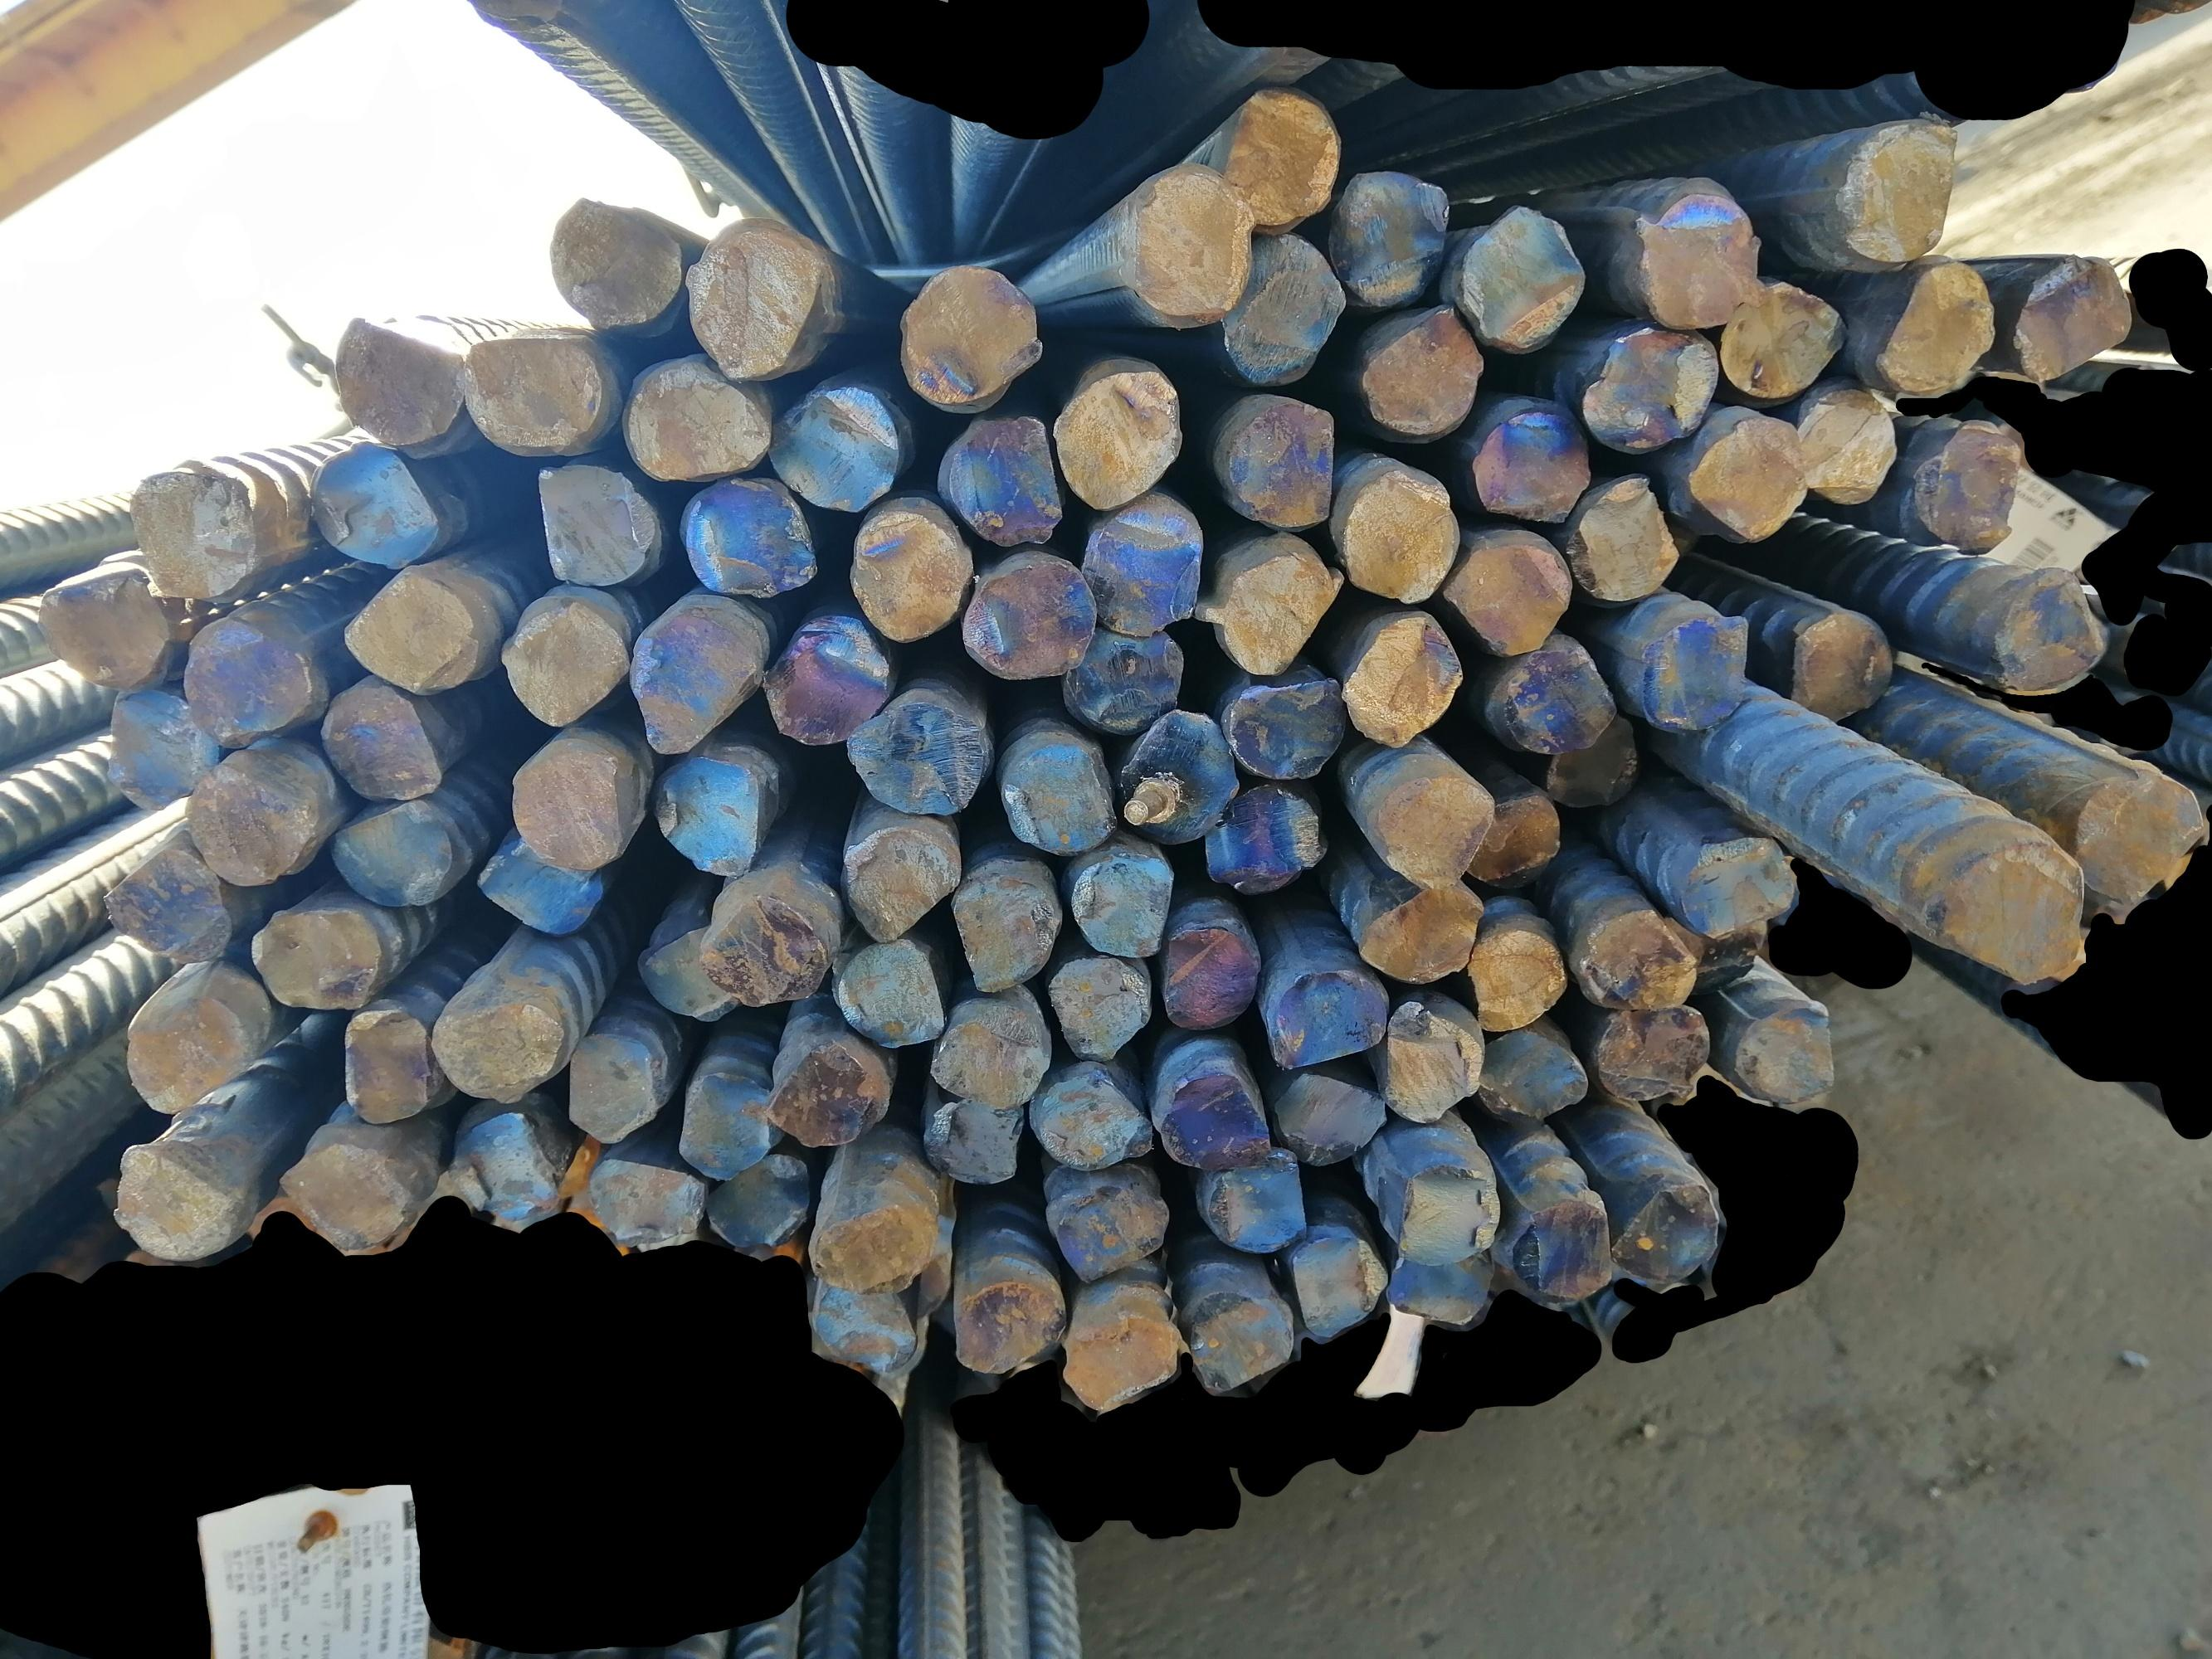bar: (676, 213, 830, 385), (1933, 824, 2088, 983), (631, 586, 769, 758), (899, 261, 1049, 408), (845, 674, 997, 819), (1119, 159, 1255, 317), (1051, 356, 1184, 512), (1196, 538, 1344, 674), (615, 347, 765, 481), (1217, 234, 1349, 385), (2073, 760, 2205, 910), (28, 558, 169, 697), (1628, 185, 1764, 329), (1457, 200, 1586, 350), (1576, 321, 1722, 451), (1835, 118, 1963, 268), (495, 584, 626, 728), (512, 735, 643, 880), (336, 570, 483, 699), (188, 749, 324, 887), (307, 439, 444, 575), (120, 985, 254, 1122), (333, 317, 467, 455), (957, 552, 1098, 683), (1081, 495, 1210, 638), (275, 1126, 415, 1256), (760, 605, 891, 744), (460, 335, 603, 462), (676, 471, 819, 598), (108, 1136, 241, 1272), (549, 188, 680, 326), (847, 500, 974, 641), (767, 382, 899, 516), (933, 410, 1063, 545), (1872, 254, 1994, 399), (180, 613, 314, 744), (422, 983, 563, 1107), (1227, 82, 1346, 228), (1682, 408, 1809, 544), (2006, 251, 2134, 387), (129, 467, 254, 605), (1110, 706, 1234, 845), (1330, 166, 1450, 308), (1358, 303, 1489, 434), (103, 685, 232, 816), (525, 458, 655, 587), (1442, 530, 1574, 657), (1720, 268, 1844, 403), (835, 817, 967, 941), (242, 897, 387, 1011), (1989, 563, 2111, 697), (322, 791, 460, 910), (1340, 605, 1459, 742), (1342, 465, 1459, 603), (1562, 472, 1682, 605), (695, 887, 824, 1009), (811, 1175, 945, 1291), (945, 864, 1065, 993), (105, 849, 235, 967), (312, 683, 443, 800), (1218, 396, 1335, 526), (1635, 610, 1757, 734), (443, 1103, 563, 1229), (762, 1033, 889, 1150), (1203, 784, 1332, 899), (1368, 774, 1492, 892), (1471, 403, 1590, 526), (647, 749, 760, 878), (1910, 416, 2019, 551), (1781, 605, 1902, 725), (1727, 993, 1846, 1115), (1152, 1054, 1269, 1176), (1056, 1302, 1180, 1417), (1262, 965, 1394, 1072), (1574, 906, 1698, 1019), (336, 995, 439, 1131), (1379, 995, 1487, 1124), (1677, 831, 1804, 939), (999, 742, 1117, 857), (824, 938, 947, 1049), (1286, 1222, 1394, 1347), (1020, 1065, 1147, 1171), (924, 1009, 1053, 1114), (1224, 671, 1346, 781), (554, 1032, 666, 1150), (1204, 1141, 1316, 1260), (1358, 884, 1487, 985), (1067, 622, 1184, 734), (1178, 1290, 1295, 1401), (1152, 915, 1262, 1033), (1384, 1155, 1504, 1263), (675, 1068, 786, 1183), (1062, 843, 1173, 958), (1267, 1063, 1388, 1169), (1590, 1006, 1710, 1112), (481, 835, 603, 938), (950, 1274, 1062, 1385), (1048, 955, 1161, 1065), (1503, 643, 1616, 753), (1513, 1192, 1621, 1307), (587, 1150, 704, 1256), (1611, 1168, 1717, 1284), (1795, 387, 1898, 505), (1048, 1182, 1164, 1284), (634, 901, 727, 1023), (809, 1279, 929, 1371), (708, 1145, 811, 1251), (1469, 924, 1567, 1035), (1659, 910, 1776, 1002), (1476, 1032, 1590, 1124), (915, 1094, 1023, 1187), (1382, 1248, 1499, 1331), (1541, 716, 1645, 809), (1462, 791, 1560, 884)
